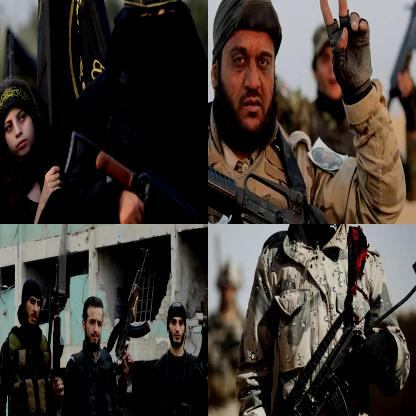rifle: (208, 82, 397, 223), (242, 262, 415, 415), (92, 143, 207, 223), (113, 246, 152, 368), (384, 0, 415, 116), (45, 256, 64, 396), (199, 242, 207, 374)
